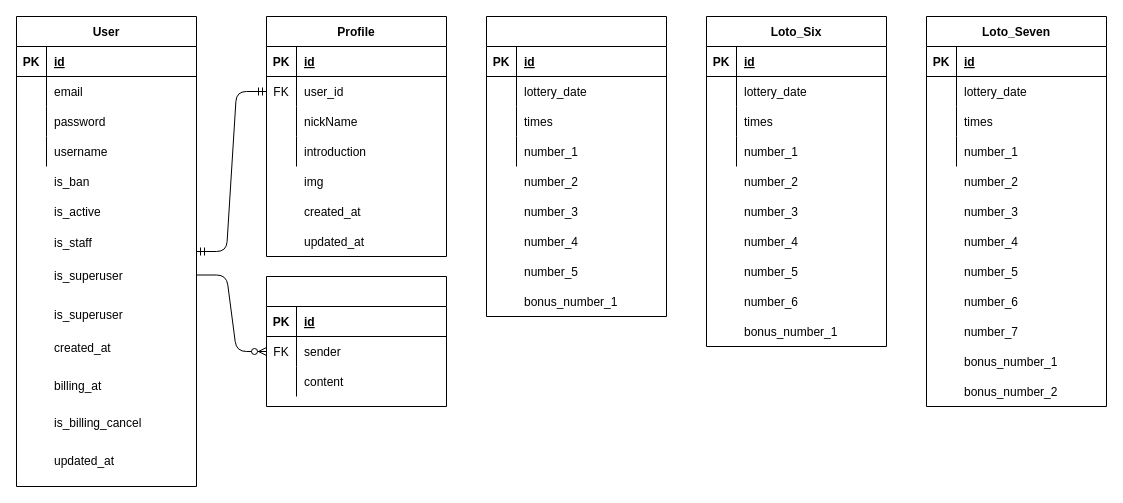
This 1123x503 diagram has some shape labels left out. The shapes that lost their labels are listed below. From the top down, each one's box as (x1, y1, x2, y2) in pixels, then its label:
(486, 16, 666, 316): Mini_Loto
(266, 276, 446, 406): Message
